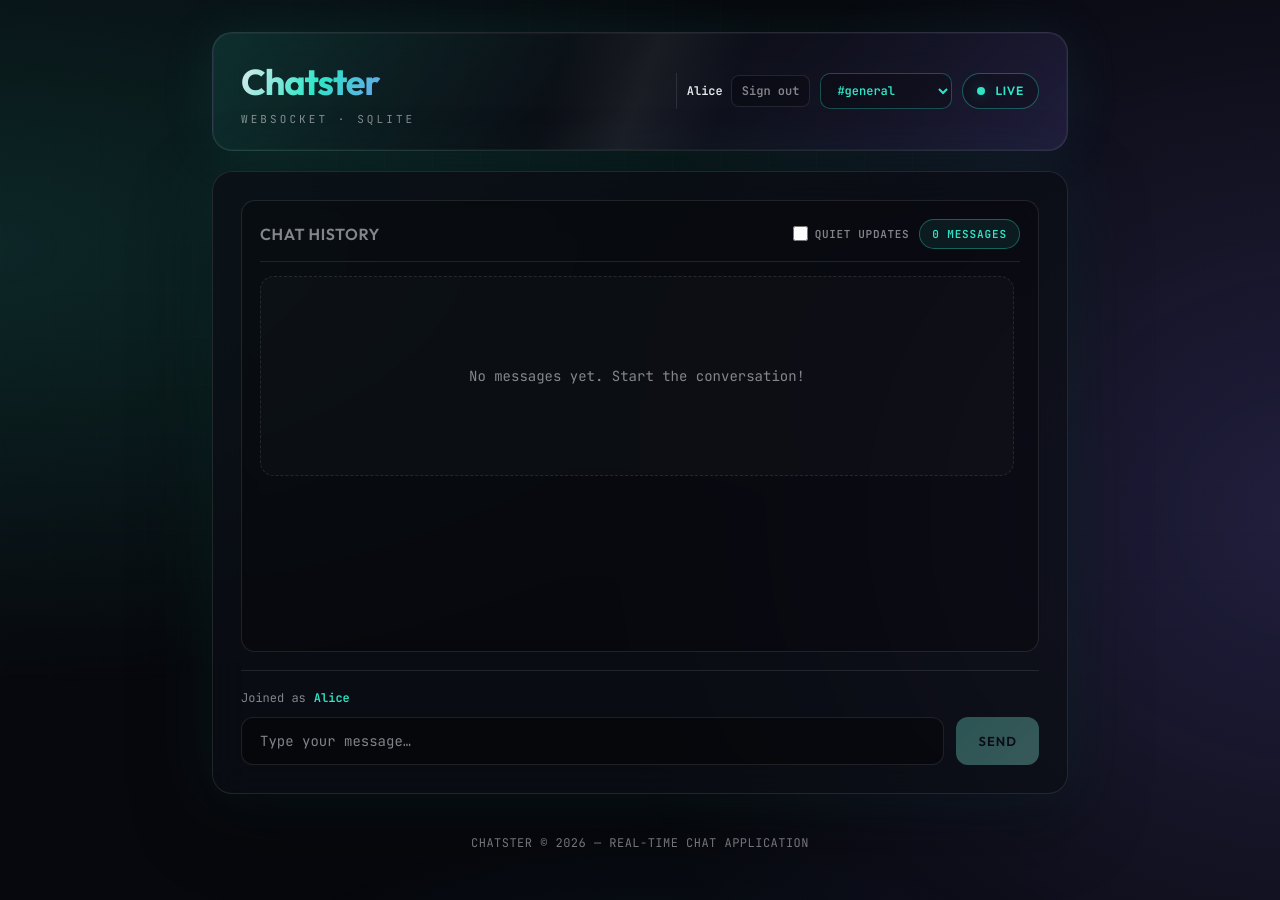
Scenario: App › keeps the session visible when logout fails
Click the button "Sign out". click: [771, 91]
box: [731, 75, 810, 107]
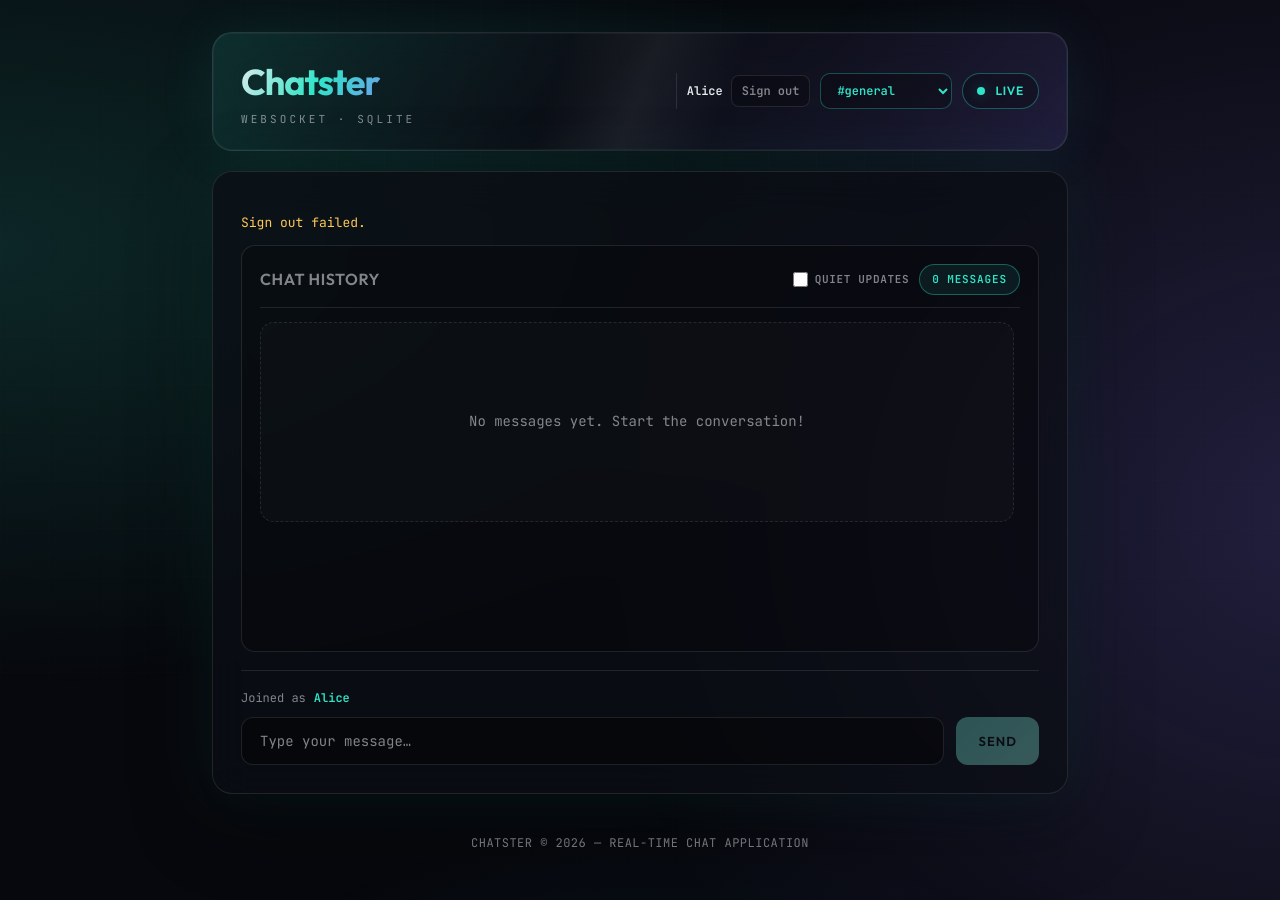
Expected: the message reads "Sign out failed.", [241, 214, 366, 230]
